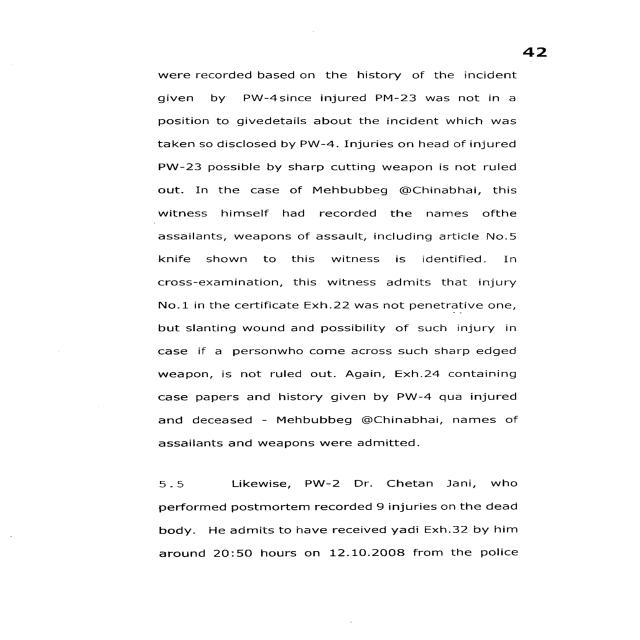page-number: (428, 0, 636, 64)
